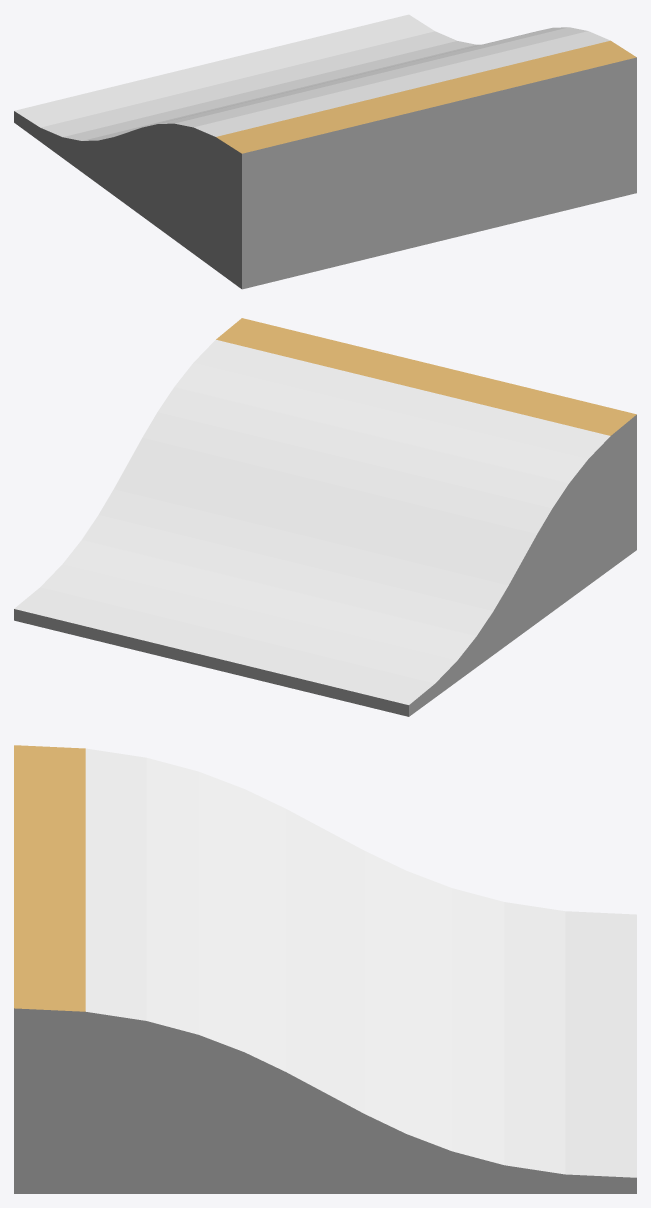
File: Slope_50x50x15.fbx
The picture shows the model from 3 angles, top to bottom: view 1: azimuth 30°, elevation 25°; view 2: azimuth 150°, elevation 25°; view 3: azimuth 270°, elevation 25°; orthographic projection. The views are drawn at different scales.
Visible parts, largest first — view 1: Slope_50x50x15; view 2: Slope_50x50x15; view 3: Slope_50x50x15.
Boxes of the visible parts, x1,y1,x2,y2 form: Slope_50x50x15: (14,14,636,289); Slope_50x50x15: (14,318,636,716); Slope_50x50x15: (14,745,636,1193).
Bounding box in the file's own units: 50 × 16.42 × 50.
